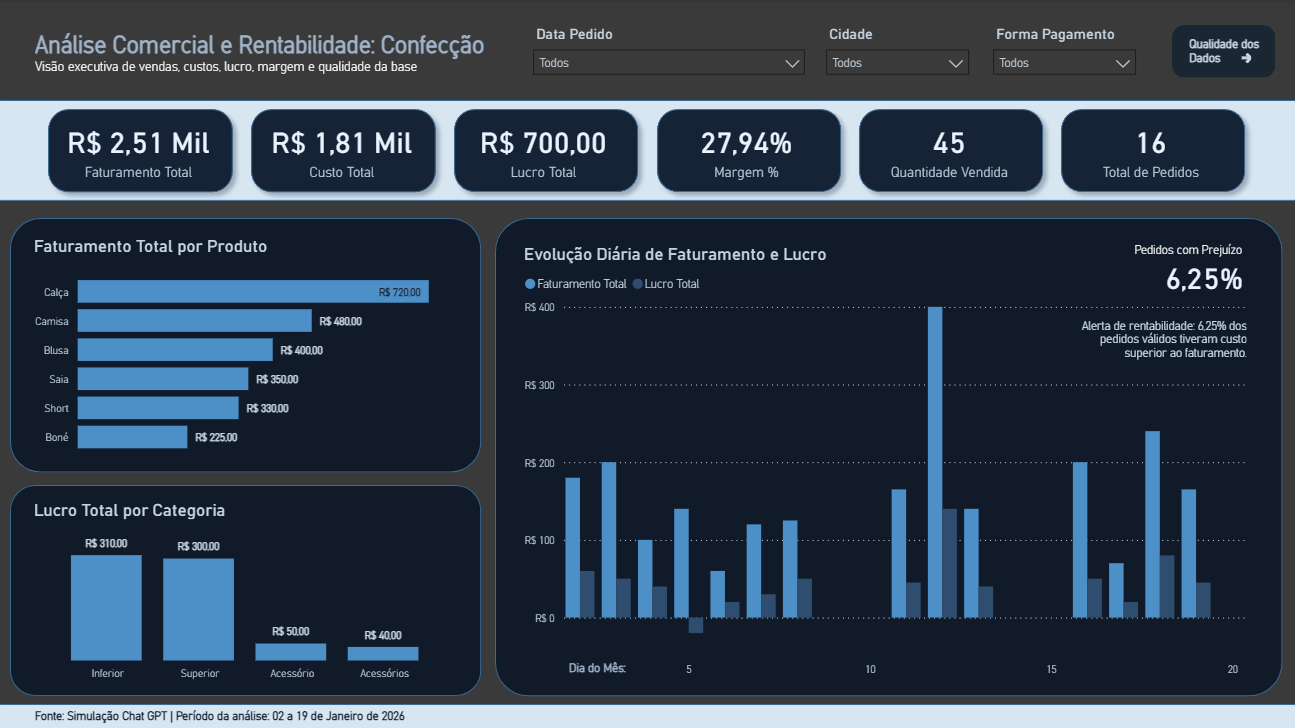

What the dashboard file says about the page in this screenshot:
{"tool":"powerbi","page":{"name":"Visão Executiva","canvas":[1280,720],"ordinal":0},"visuals":[{"type":"pageNavigator","box":[1156.9,25.6,102.9,52],"z":0},{"type":"shape","box":[11.3,479.3,464.7,208.1],"z":1000},{"type":"shape","box":[11.3,215.8,464.7,251],"z":2000},{"type":"shape","box":[0,99.5,1280,99.5],"z":3000},{"type":"shape","box":[39.6,99.4,200.1,100],"z":4000},{"type":"shape","box":[239.7,99.4,200.1,100],"z":5000},{"type":"shape","box":[639.8,99.7,199.5,99.8],"z":6000},{"type":"shape","box":[839.3,99.7,199.5,99.8],"z":7000},{"type":"shape","box":[489.3,216.1,776.6,471.8],"z":8000},{"type":"card","fields":{"Values":["DAX.Faturamento Total"]},"box":[37.1,97.9,200.1,100],"z":9000},{"type":"card","fields":{"Values":["DAX.Custo Total"]},"box":[237.2,97.9,202.8,100],"z":10000},{"type":"shape","box":[440.3,99.7,199.5,99.8],"z":11000},{"type":"card","fields":{"Values":["DAX.Lucro Total"]},"box":[437.3,97.9,200.1,100],"z":12000},{"type":"shape","box":[1038.8,99.7,199.5,99.8],"z":13000},{"type":"card","fields":{"Values":["DAX.Margem %"]},"box":[637.4,97.9,200.1,100],"z":14000},{"type":"card","fields":{"Values":["DAX.Quantidade Vendida"]},"box":[837.4,97.9,200.1,100],"z":15000},{"type":"card","fields":{"Values":["DAX.Total de Pedidos"]},"box":[1034.8,97.9,202.8,100],"z":16000},{"type":"textbox","box":[30.5,27,476,64.5],"z":17000},{"type":"slicer","fields":{"Values":["Fato_Vendas_Confeccao.Data Pedido"]},"box":[516.7,21.5,288.3,74.6],"z":18000},{"type":"slicer","fields":{"Values":["Fato_Vendas_Confeccao.Cidade"]},"box":[806.2,21.5,160.6,74.6],"z":19000},{"type":"slicer","fields":{"Values":["Fato_Vendas_Confeccao.Forma Pagamento"]},"box":[970.2,21.5,160.6,74.6],"z":20000},{"type":"barChart","fields":{"Category":["Fato_Vendas_Confeccao.Produto"],"Y":["DAX.Faturamento Total"]},"box":[29.2,233.6,447.3,226.6],"z":21000},{"type":"columnChart","fields":{"Category":["Fato_Vendas_Confeccao.Categoria"],"Y":["DAX.Lucro Total"]},"box":[29.4,494.1,428.6,184.3],"z":22000},{"type":"lineClusteredColumnComboChart","title":"Evolução Diária de Faturamento e Lucro","fields":{"Category":["Calendario.Dia"],"Y":["DAX.Faturamento Total","DAX.Lucro Total"]},"box":[512.5,241.8,723.7,433.1],"z":23000},{"type":"shape","box":[0,695.4,1280,24.9],"z":24000},{"type":"textbox","box":[30.5,695.4,796,23.7],"z":25000},{"type":"textbox","box":[557.1,648.2,266.3,23.4],"z":26000},{"type":"card","fields":{"Values":["DAX.% Pedidos com Prejuízo"]},"box":[1125.4,242.9,126.6,62.2],"z":27000},{"type":"textbox","box":[1050.7,310.8,185.4,57.7],"z":28000},{"type":"textbox","box":[1047.3,236.1,186.6,23.7],"z":29000},{"type":"actionButton","box":[1221.4,49.4,37.3,18.1],"z":30000}]}

Visuals, with their boxes in screenshot pixels (x1, y1, x2, y2), scaled from the page's 1280x720 canvas onto the 1295x728 screenshot:
pageNavigator: box=[1170, 26, 1275, 78]
shape: box=[11, 485, 482, 695]
shape: box=[11, 218, 482, 472]
shape: box=[0, 101, 1294, 201]
shape: box=[40, 101, 243, 202]
shape: box=[243, 101, 445, 202]
shape: box=[647, 101, 849, 202]
shape: box=[849, 101, 1051, 202]
shape: box=[495, 219, 1281, 696]
card - DAX.Faturamento Total: box=[38, 99, 240, 200]
card - DAX.Custo Total: box=[240, 99, 445, 200]
shape: box=[445, 101, 647, 202]
card - DAX.Lucro Total: box=[442, 99, 645, 200]
shape: box=[1051, 101, 1253, 202]
card - DAX.Margem %: box=[645, 99, 847, 200]
card - DAX.Quantidade Vendida: box=[847, 99, 1050, 200]
card - DAX.Total de Pedidos: box=[1047, 99, 1252, 200]
textbox: box=[31, 27, 512, 93]
slicer - Fato_Vendas_Confeccao.Data Pedido: box=[523, 22, 814, 97]
slicer - Fato_Vendas_Confeccao.Cidade: box=[816, 22, 978, 97]
slicer - Fato_Vendas_Confeccao.Forma Pagamento: box=[982, 22, 1144, 97]
barChart - Fato_Vendas_Confeccao.Produto x DAX.Faturamento Total: box=[30, 236, 482, 465]
columnChart - Fato_Vendas_Confeccao.Categoria x DAX.Lucro Total: box=[30, 500, 463, 686]
"Evolução Diária de Faturamento e Lucro" lineClusteredColumnComboChart: box=[519, 244, 1251, 682]
shape: box=[0, 703, 1294, 727]
textbox: box=[31, 703, 836, 727]
textbox: box=[564, 655, 833, 679]
card - DAX.% Pedidos com Prejuízo: box=[1139, 246, 1267, 308]
textbox: box=[1063, 314, 1251, 373]
textbox: box=[1060, 239, 1248, 263]
actionButton: box=[1236, 50, 1273, 68]
